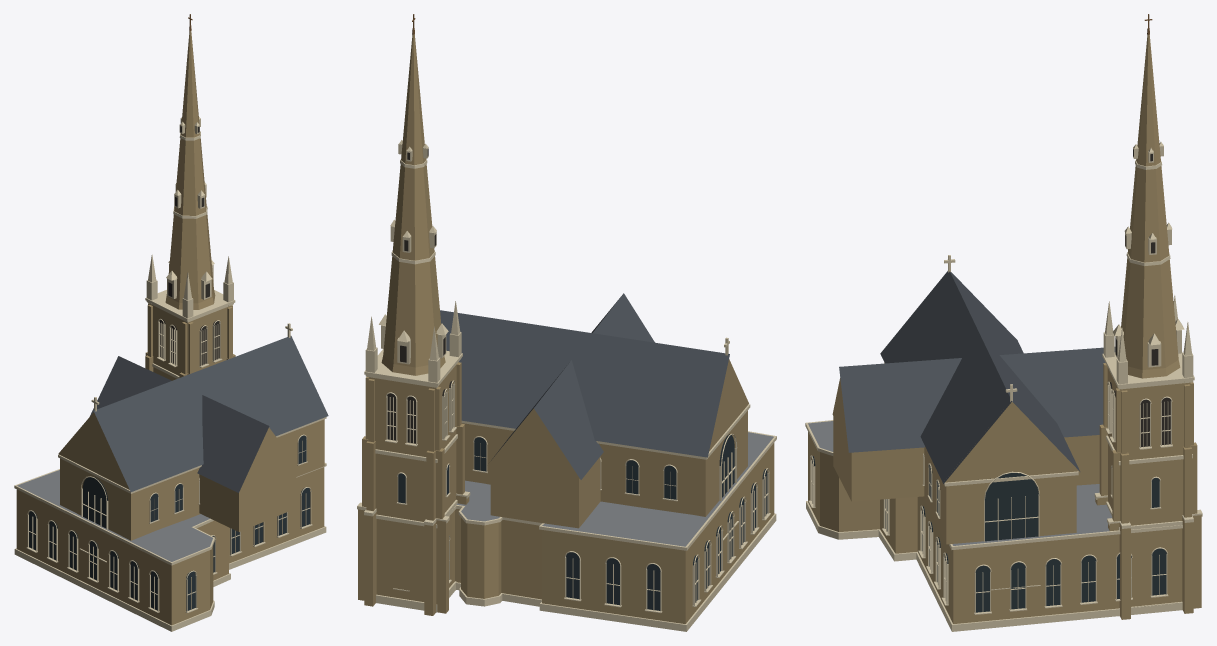
File: st_matthews_bayswater.glb
3 views of the same model, side by side, from view 1: azimuth 30°, elevation 25°; view 2: azimuth 150°, elevation 25°; view 3: azimuth 270°, elevation 25° (orthographic). The views are drawn at different scales.
Size of the model in its own units: 42.76 by 76.11 by 46.54.
